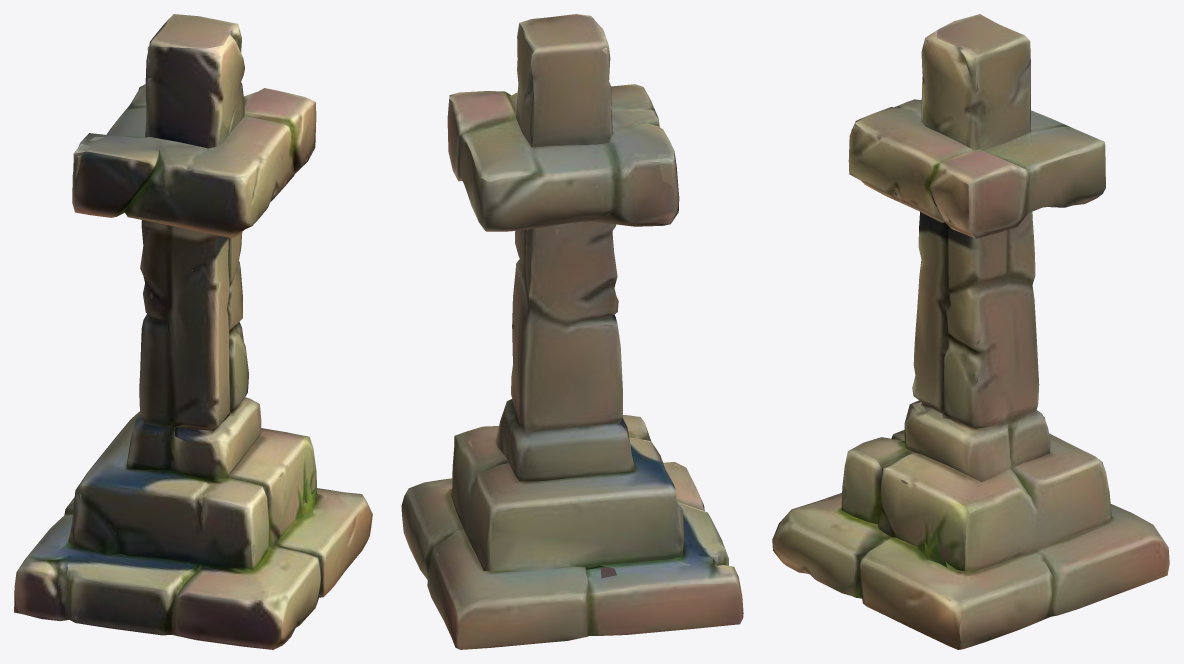
The model's file is marketCross.glb.
3 renders of one model, left to right at view 1: azimuth 30°, elevation 25°; view 2: azimuth 150°, elevation 25°; view 3: azimuth 270°, elevation 25°, orthographic. The views are drawn at different scales.
Visible parts, largest first — view 1: level; view 2: level; view 3: level.
Part boxes in pixels (x1=…): level: x1=14, y1=14, x2=372, y2=649; level: x1=401, y1=14, x2=743, y2=649; level: x1=772, y1=14, x2=1169, y2=649.
Bounding box in the file's own units: 0.5537 × 0.8289 × 0.5537.
Materials: 1 (1 with a texture image).
